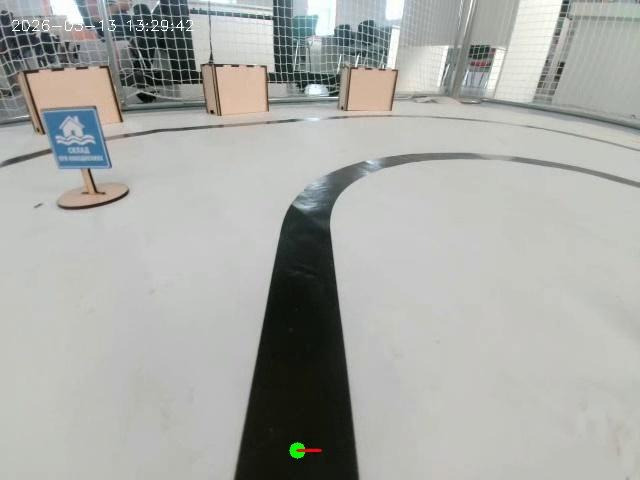flood: (50, 85, 120, 182)
